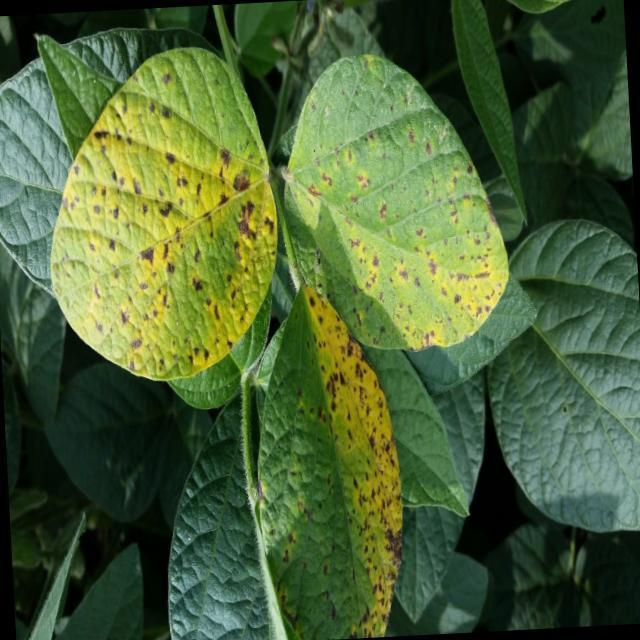Septoria: (42, 72, 278, 366), (292, 117, 508, 356), (261, 326, 403, 640)
